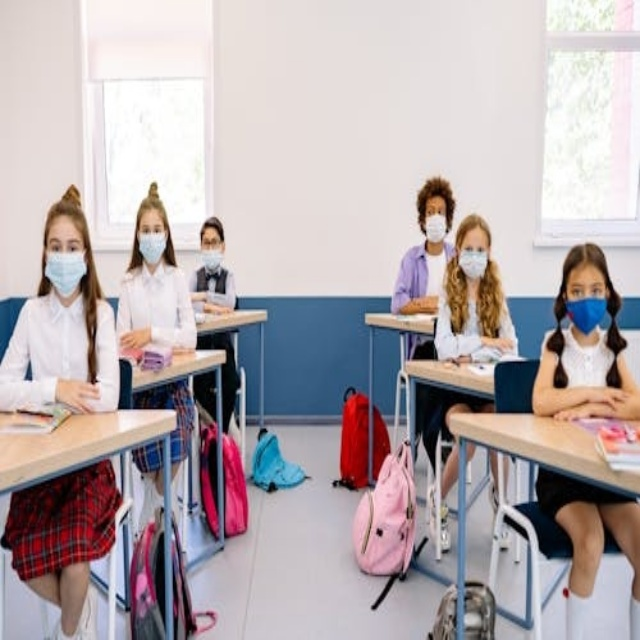Mascara: (44, 249, 88, 295), (564, 296, 610, 335), (138, 230, 167, 265), (458, 249, 488, 280), (424, 215, 447, 243), (201, 248, 224, 272)
Sin_gafas: (570, 277, 608, 302)
